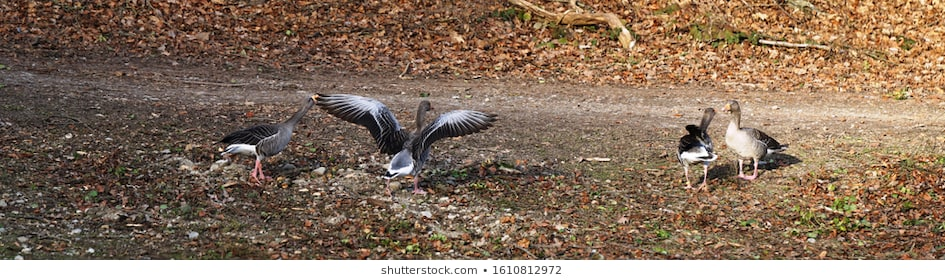duck: (317, 80, 532, 189), (229, 86, 339, 200), (712, 85, 795, 204), (660, 105, 723, 194)
